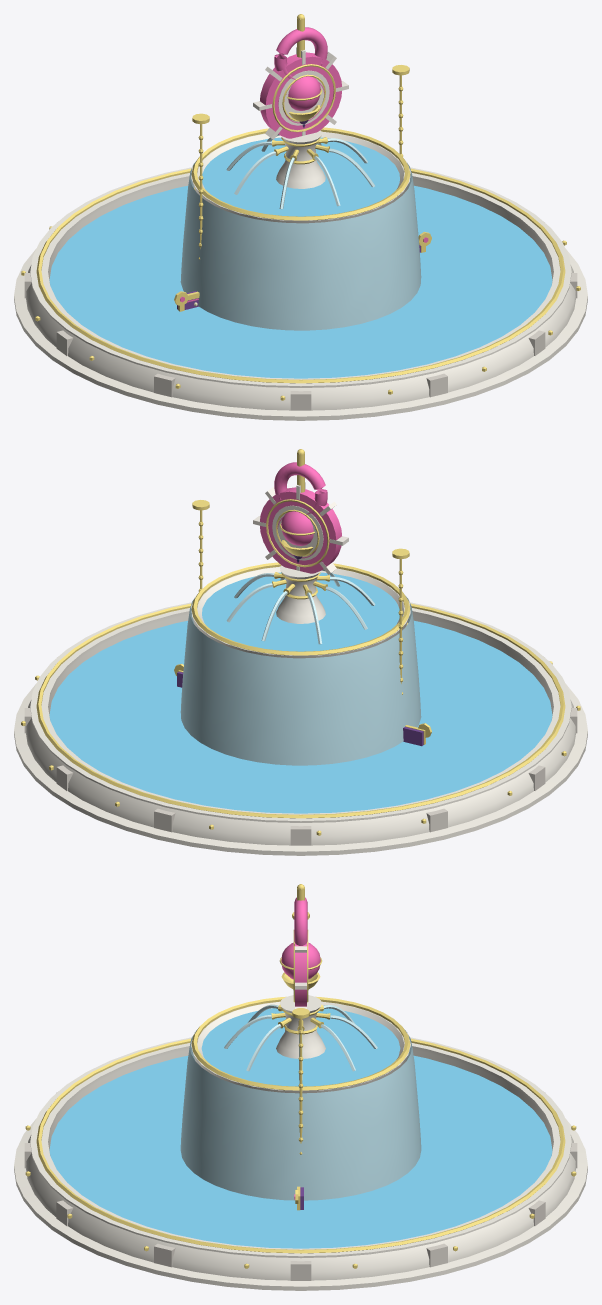
File: casino.glb
3 renders of one model, top to bottom at view 1: azimuth 30°, elevation 25°; view 2: azimuth 150°, elevation 25°; view 3: azimuth 270°, elevation 25°, orthographic.
Visible parts, largest first — view 1: waterBasin, basin, curtainSheet, waterBowl, basinGold, chipBody, pedestalGold, basinPilasters, bowl, stem, chipInlay, streamArcs (+5 smaller); view 2: waterBasin, basin, curtainSheet, waterBowl, basinGold, chipBody, pedestalGold, basinPilasters, bowl, stem, chipInlay, streamArcs (+5 smaller); view 3: waterBasin, basin, curtainSheet, waterBowl, basinGold, pedestalGold, basinPilasters, bowl, stem, streamArcs, welTop, lampGlow (+3 smaller).
Part boxes in pixels (bbox=[...]): waterBasin: bbox=[49, 185, 552, 378]; basin: bbox=[14, 167, 587, 420]; curtainSheet: bbox=[180, 161, 421, 330]; waterBowl: bbox=[202, 137, 399, 216]; basinGold: bbox=[21, 168, 580, 400]; chipBody: bbox=[260, 52, 341, 138]; pedestalGold: bbox=[191, 127, 410, 220]; basinPilasters: bbox=[24, 221, 577, 410]; bowl: bbox=[191, 131, 410, 223]; stem: bbox=[276, 130, 325, 188]; chipInlay: bbox=[253, 47, 348, 139]; streamArcs: bbox=[226, 134, 374, 209]; waterBasin: bbox=[49, 620, 552, 813]; basin: bbox=[14, 602, 587, 855]; curtainSheet: bbox=[180, 596, 421, 765]; waterBowl: bbox=[202, 572, 399, 651]; basinGold: bbox=[21, 603, 580, 835]; chipBody: bbox=[260, 487, 341, 573]; pedestalGold: bbox=[191, 562, 410, 655]; basinPilasters: bbox=[24, 656, 577, 845]; bowl: bbox=[191, 566, 410, 658]; stem: bbox=[276, 565, 325, 623]; chipInlay: bbox=[253, 482, 348, 574]; streamArcs: bbox=[226, 569, 375, 644]; waterBasin: bbox=[49, 1055, 552, 1248]; basin: bbox=[14, 1037, 587, 1290]; curtainSheet: bbox=[180, 1030, 421, 1200]; waterBowl: bbox=[201, 1008, 400, 1086]; basinGold: bbox=[25, 1038, 576, 1268]; pedestalGold: bbox=[191, 996, 410, 1090]; basinPilasters: bbox=[24, 1091, 577, 1280]; bowl: bbox=[191, 1001, 410, 1093]; stem: bbox=[276, 995, 325, 1058]; streamArcs: bbox=[224, 1004, 377, 1080]; welTop: bbox=[292, 912, 309, 1154]; lampGlow: bbox=[281, 942, 320, 979].
Size of the model in its own units: 19.4 by 12.1 by 19.4.
